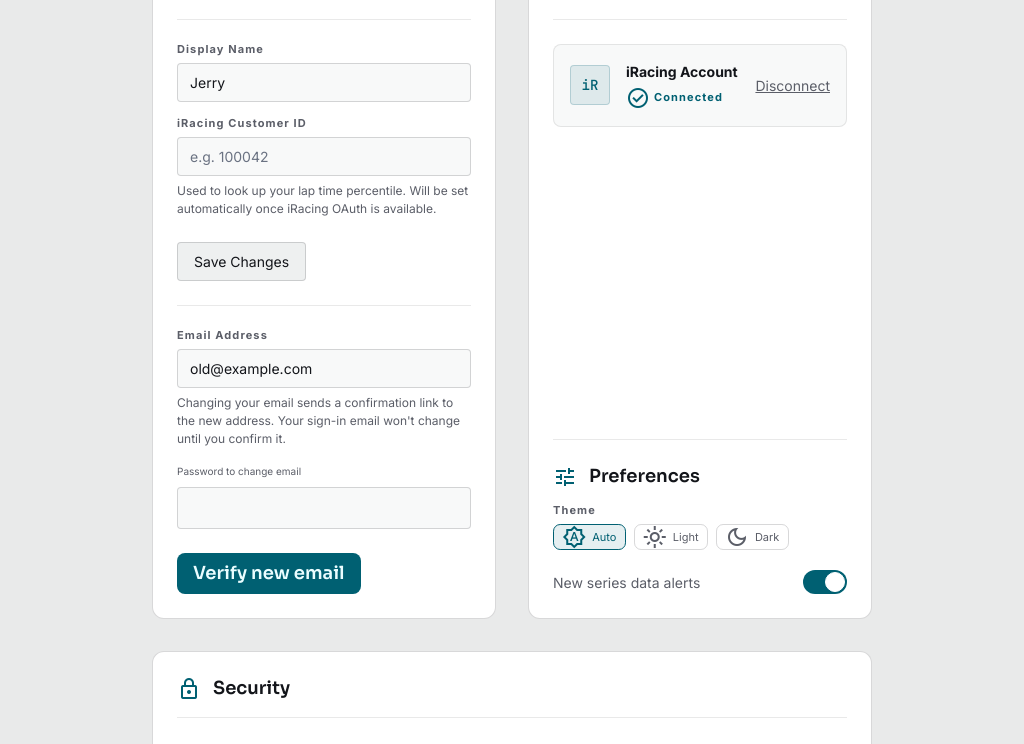
Test: SettingsPage › clears the pending notice when the email input is edited after a successful request
(page scrolled)
Replace the text in the field labelled "Email Address" with "new@example.com" at (324, 368), box [177,349,471,388]
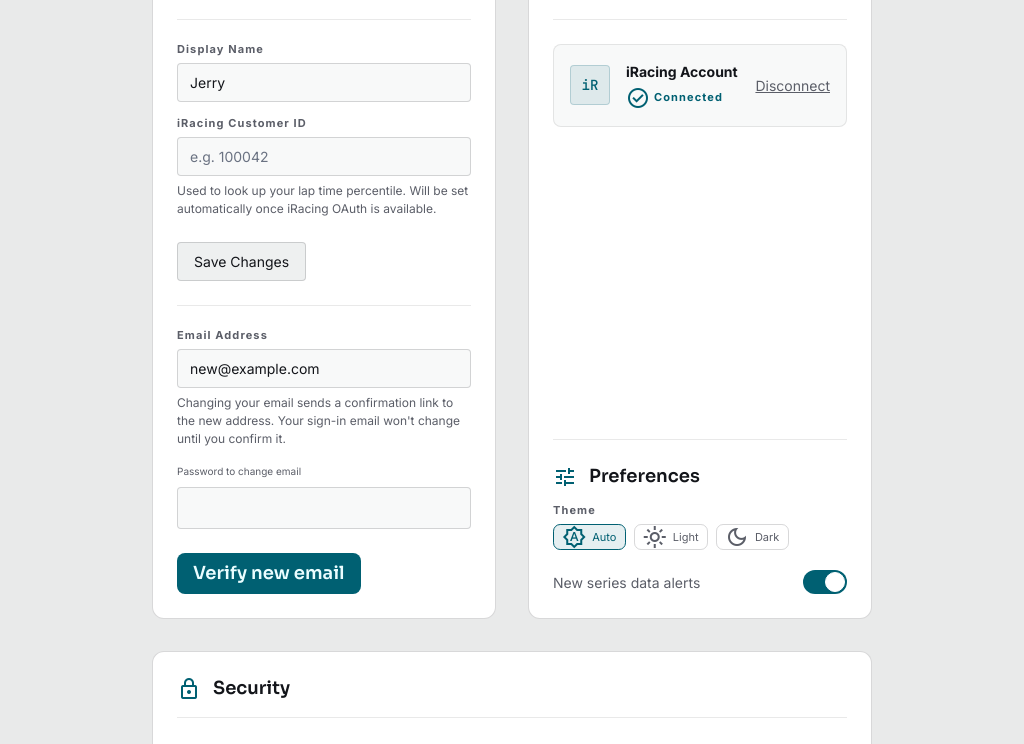
Type "current-secret" into the password field labelled "Password to change email" at (324, 508), box [177,487,471,529]
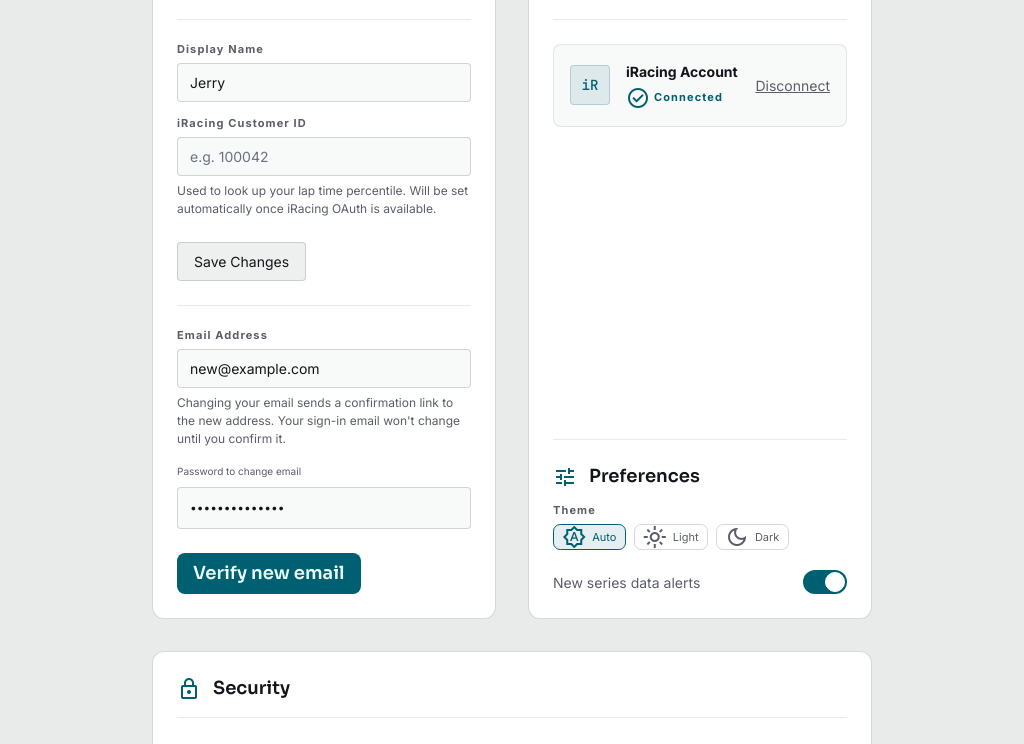
Click the button "Verify new email" at (269, 574), box [177,553,360,594]
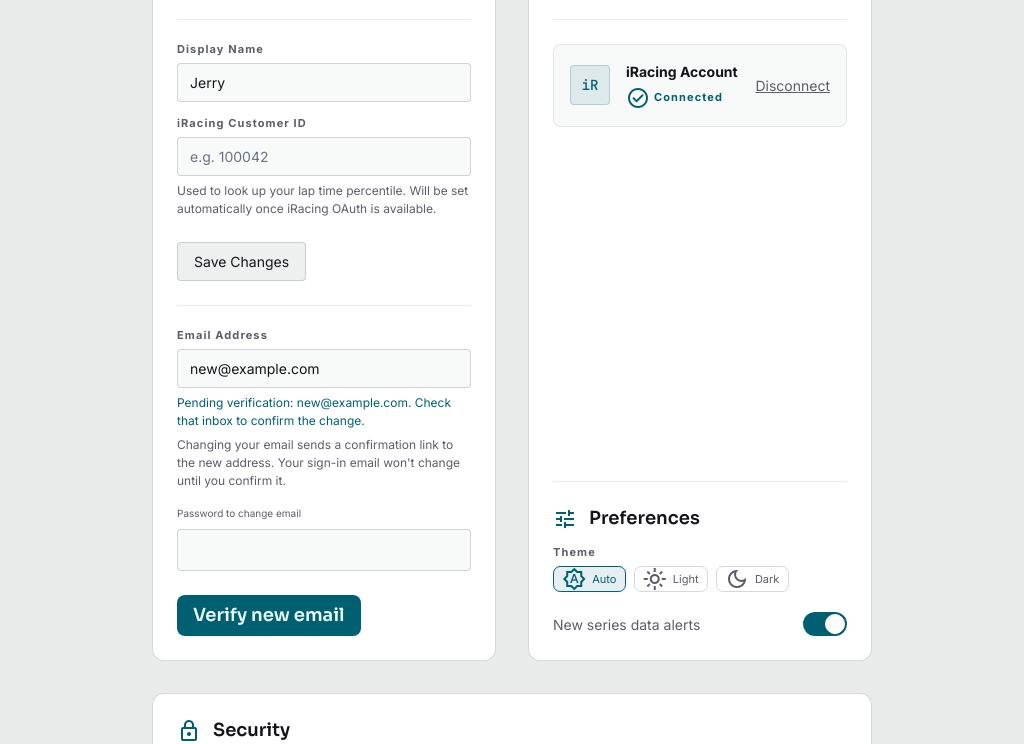
Result: the text "Pending verification" is shown at [177,395,297,410]
Replace the text in the field labelled "Email Address" with "another@example.com" at (324, 368), box [177,349,471,388]
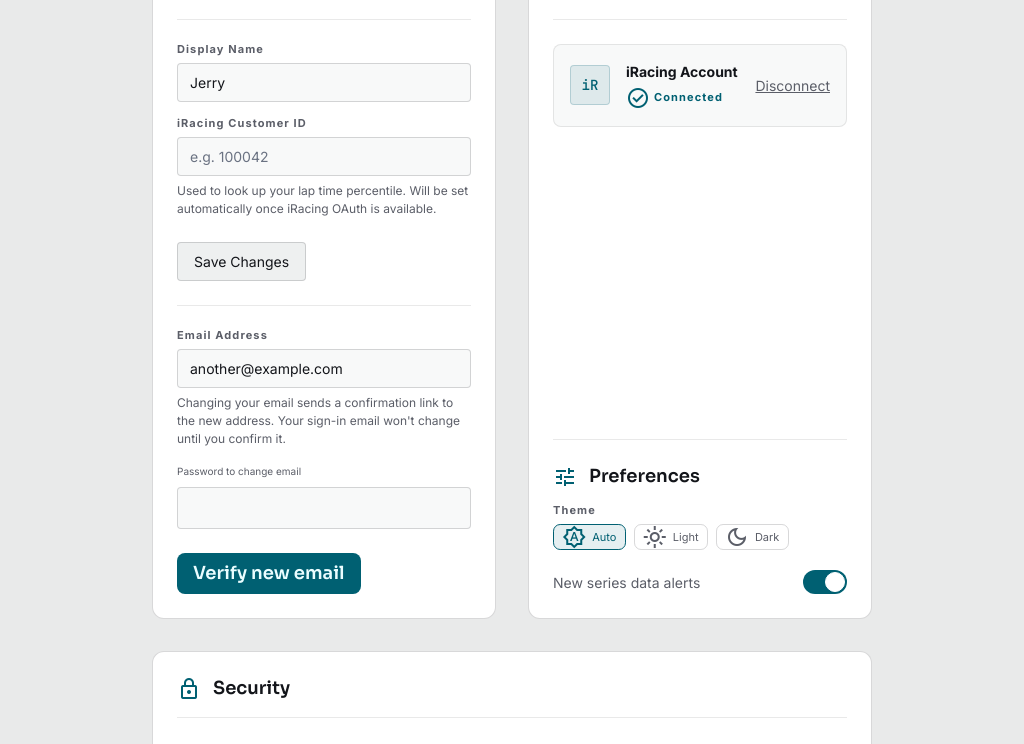
Result: the text "Pending verification" is gone
